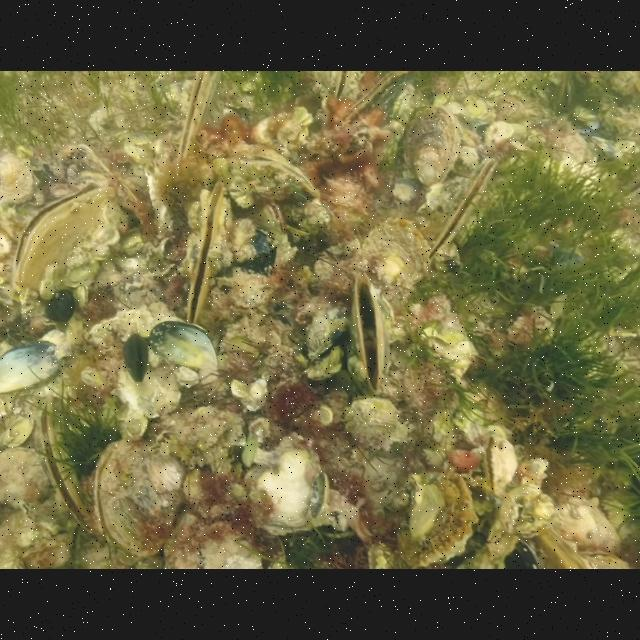Oyster-Closed: (90, 438, 184, 558), (356, 214, 432, 316), (398, 105, 464, 192), (340, 71, 420, 129)
Oyster-Open: (12, 180, 110, 290), (404, 474, 518, 568), (426, 156, 502, 262), (38, 396, 94, 538), (220, 147, 322, 213), (184, 182, 230, 328), (346, 267, 388, 399), (174, 70, 218, 180), (480, 433, 518, 493), (248, 202, 288, 238), (329, 71, 359, 109)
